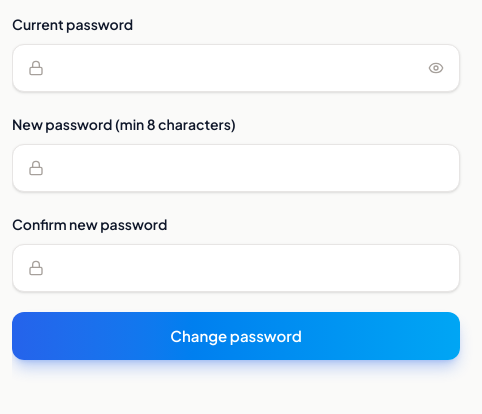
Scenario: ChangePasswordForm › requires at least 8 characters
Type "oldpass" into the password field labelled "Current password" at (236, 68), box [12,44,460,92]
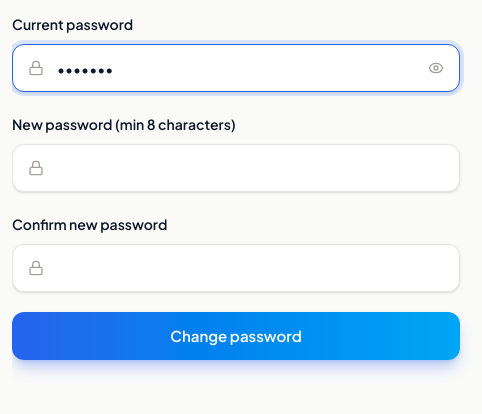
Type "short" into the password field labelled "New password (min 8 characters)" at (236, 168), box [12,144,460,192]
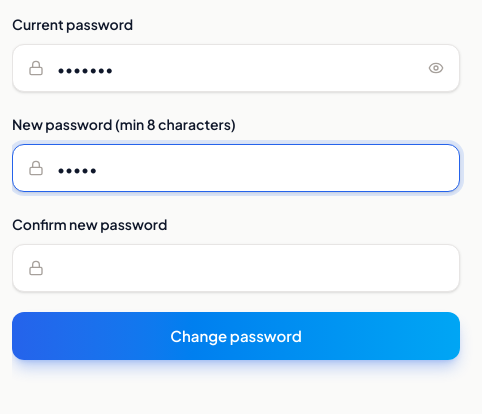
Type "short" into the password field labelled "Confirm new password" at (236, 268), box [12,244,460,292]
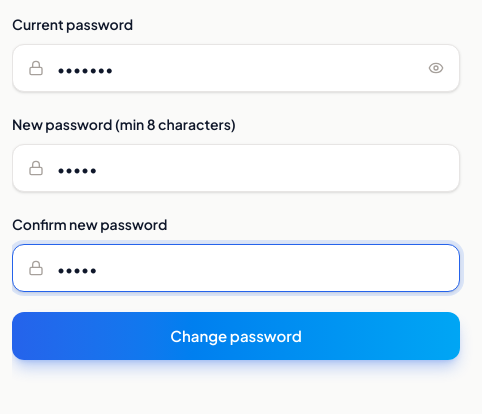
Click the button "Change password" at (236, 336), box [12,312,460,360]
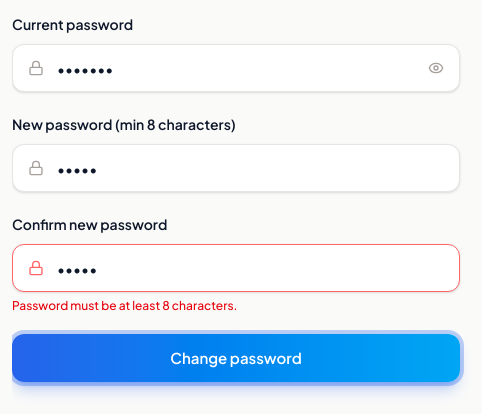
expect the text "Password must be at least 8 characters." is shown: met, box [12,298,237,313]
